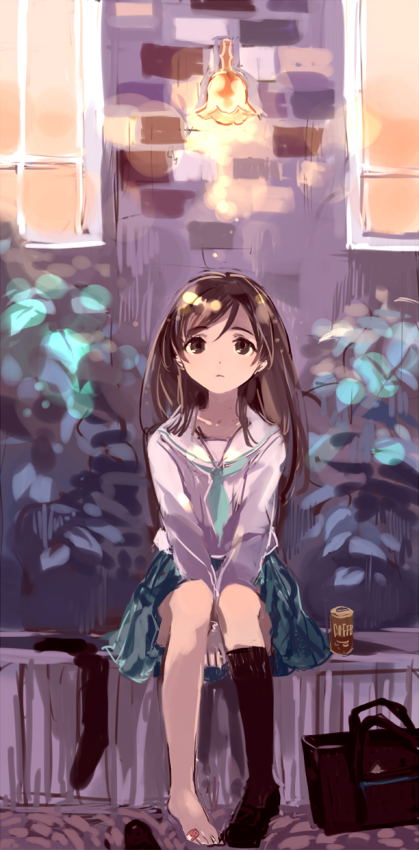纸片人正脸: (155, 269, 291, 399)
